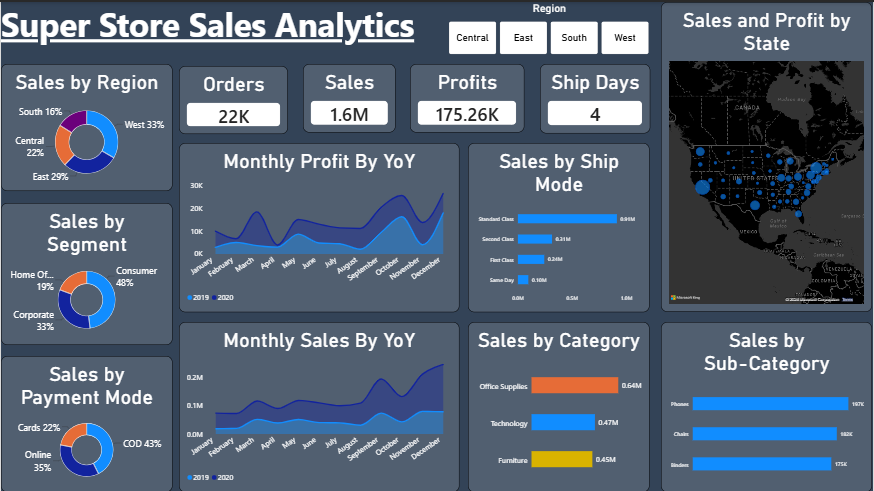

Layout of this report page (visuals, bound fields, positions):
{"tool":"powerbi","page":{"name":"Page 1","canvas":[1920,1080],"ordinal":0},"visuals":[{"type":"clusteredBarChart","title":"Sales by Category","fields":{"Category":["Sheet1.Category"],"Y":["Sum(Sheet1.Sales)"]},"box":[1030,705,400,375],"z":0},{"type":"clusteredBarChart","title":"Sales by Sub-Category","fields":{"Category":["Sheet1.Sub-Category"],"Y":["Sum(Sheet1.Sales)"]},"box":[1455,705,465,375],"z":1000},{"type":"clusteredBarChart","title":"Sales by Ship Mode","fields":{"Category":["Sheet1.Ship Mode"],"Y":["Sum(Sheet1.Sales)"]},"box":[1030,310,400,372.5],"z":2000},{"type":"stackedAreaChart","title":"Monthly Sales By YoY","fields":{"Category":["Sheet1.Order Date.Variation.Date Hierarchy.Month","Sheet1.Order Date.Variation.Date Hierarchy.Day"],"Series":["Sheet1.Order Date.Variation.Date Hierarchy.Year"],"Y":["Sum(Sheet1.Sales)"]},"box":[392.5,705,617.5,375],"z":3000},{"type":"stackedAreaChart","title":"Monthly Profit By YoY","fields":{"Category":["Sheet1.Order Date.Variation.Date Hierarchy.Month","Sheet1.Order Date.Variation.Date Hierarchy.Day"],"Series":["Sheet1.Order Date.Variation.Date Hierarchy.Year"],"Y":["Sum(Sheet1.Profit)"]},"box":[392.5,310,617.5,372.5],"z":4000},{"type":"map","title":"Sales and Profit by State","fields":{"Category":["Sheet1.State"],"Size":["Sum(Sheet1.Sales)"]},"box":[1455,0,465,682.5],"z":5000},{"type":"donutChart","title":"Sales by Segment","fields":{"Category":["Sheet1.Segment"],"Y":["Sum(Sheet1.Sales)"]},"box":[0,442.5,377.5,312.5],"z":6000},{"type":"donutChart","title":"Sales by Payment Mode","fields":{"Category":["Sheet1.Payment Mode"],"Y":["Sum(Sheet1.Sales)"]},"box":[0,780,377.5,300],"z":7000},{"type":"advancedSlicerVisual","fields":{"Values":["Sheet1.Region"]},"box":[987.5,0,442.5,115],"z":8000},{"type":"textbox","box":[0,0,936.7,114.6],"z":9000},{"type":"cardVisual","title":"Sales","fields":{"Data":["Sum(Sheet1.Sales)"]},"box":[665,137.5,204.1,151.2],"z":10000},{"type":"cardVisual","title":"Profits","fields":{"Data":["Sum(Sheet1.Profit)"]},"box":[902.5,137.5,252,151.2],"z":11000},{"type":"cardVisual","title":"Orders","fields":{"Data":["Sum(Sheet1.Quantity)"]},"box":[392.5,140,240,150],"z":12000},{"type":"cardVisual","title":"Ship Days","fields":{"Data":["Avg(Sheet1.Average Delivery)"]},"box":[1187.5,137.5,242.5,152.5],"z":13000},{"type":"donutChart","title":"Sales by Region","fields":{"Category":["Sheet1.Region"],"Y":["Sum(Sheet1.Sales)"]},"box":[0,137.5,377.5,280],"z":14000}]}

Visuals, with their boxes in screenshot pixels (x1, y1, x2, y2), scaled from the page's 1920x1080 canvas onto the 874x491 screenshot:
"Sales by Category" clusteredBarChart: [x1=469, y1=321, x2=651, y2=490]
"Sales by Sub-Category" clusteredBarChart: [x1=662, y1=321, x2=873, y2=490]
"Sales by Ship Mode" clusteredBarChart: [x1=469, y1=141, x2=651, y2=310]
"Monthly Sales By YoY" stackedAreaChart: [x1=179, y1=321, x2=460, y2=490]
"Monthly Profit By YoY" stackedAreaChart: [x1=179, y1=141, x2=460, y2=310]
"Sales and Profit by State" map: [x1=662, y1=0, x2=873, y2=310]
"Sales by Segment" donutChart: [x1=0, y1=201, x2=172, y2=343]
"Sales by Payment Mode" donutChart: [x1=0, y1=355, x2=172, y2=490]
advancedSlicerVisual - Sheet1.Region: [x1=450, y1=0, x2=651, y2=52]
textbox: [x1=0, y1=0, x2=426, y2=52]
"Sales" cardVisual: [x1=303, y1=63, x2=396, y2=131]
"Profits" cardVisual: [x1=411, y1=63, x2=526, y2=131]
"Orders" cardVisual: [x1=179, y1=64, x2=288, y2=132]
"Ship Days" cardVisual: [x1=541, y1=63, x2=651, y2=132]
"Sales by Region" donutChart: [x1=0, y1=63, x2=172, y2=190]
